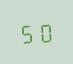five: (19, 20, 35, 44)
zero: (36, 20, 52, 43)
